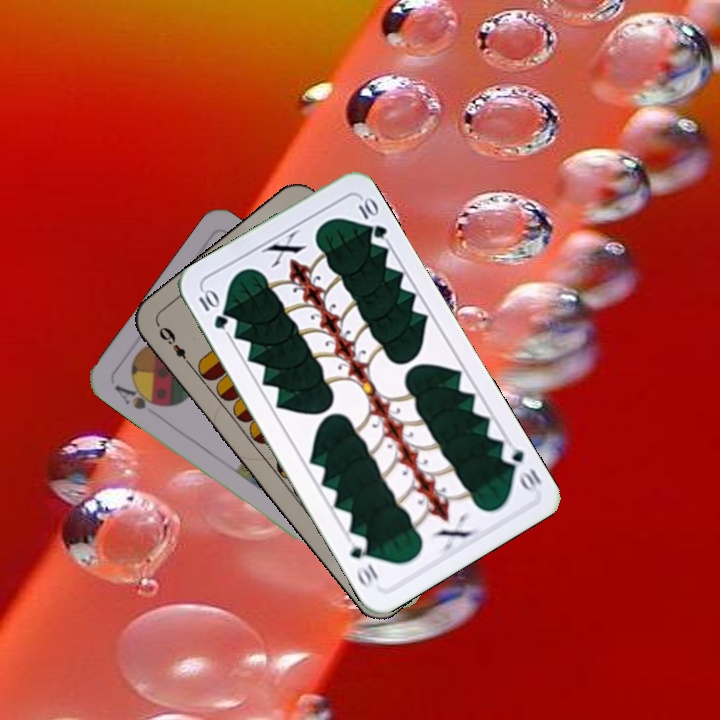E9: (154, 322, 196, 371)
G10: (496, 439, 545, 496), (194, 285, 231, 332)
SA: (110, 380, 167, 412)
